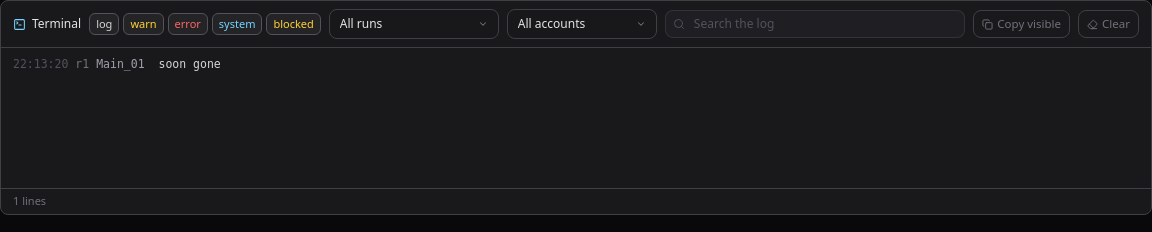
Test: PythonTerminal › clears the terminal
Expected: the text "soon gone" is shown, left=158, top=57, right=221, bottom=71
Step 1. Click the button "Clear" → (1109, 24), box left=1078, top=10, right=1139, bottom=38
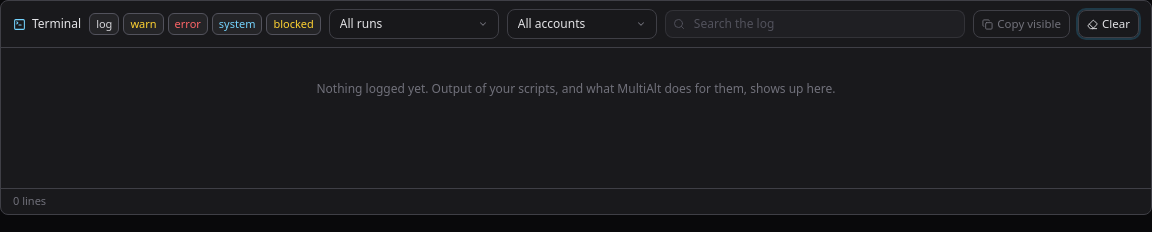
Result: the text "soon gone" is gone
